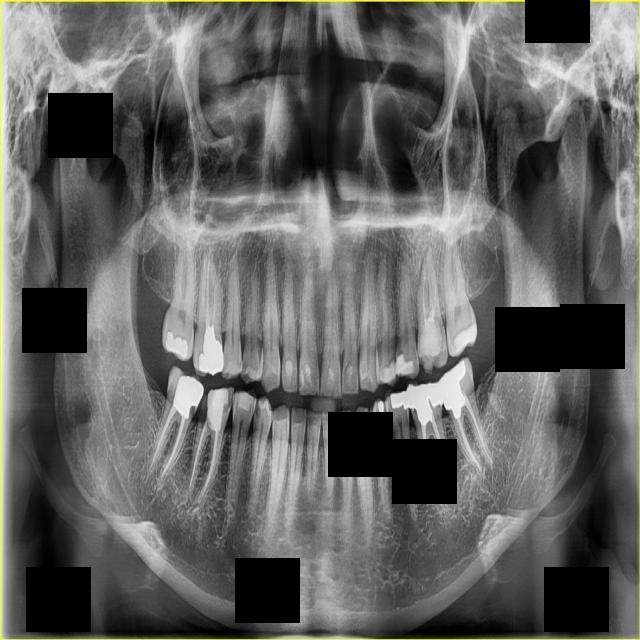74: (459, 392, 497, 466), (196, 430, 224, 504), (430, 417, 457, 493), (148, 404, 179, 469), (160, 415, 188, 479), (418, 422, 440, 500), (187, 416, 210, 489), (454, 415, 482, 472), (427, 263, 437, 324), (205, 248, 212, 330), (201, 255, 206, 319), (211, 265, 216, 326), (422, 270, 427, 329)
NucleOSS Implant: (404, 382, 444, 426), (170, 374, 206, 421), (439, 361, 466, 420), (448, 320, 486, 356), (199, 325, 224, 374), (163, 329, 191, 358), (390, 391, 410, 412), (377, 401, 385, 416)
Sterngold Implant: (197, 395, 210, 428), (225, 387, 235, 411), (253, 400, 264, 419), (189, 407, 196, 422)
Straumann Implant: (201, 384, 231, 431), (416, 321, 444, 371), (392, 353, 414, 376), (379, 360, 397, 384), (234, 391, 254, 410), (302, 363, 314, 384), (285, 361, 293, 377), (327, 367, 335, 379), (346, 364, 353, 375)
